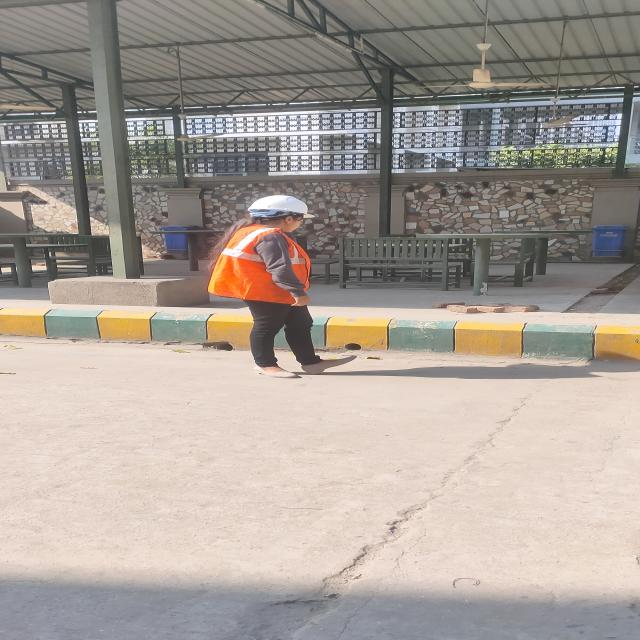safe: (208, 196, 313, 378)
